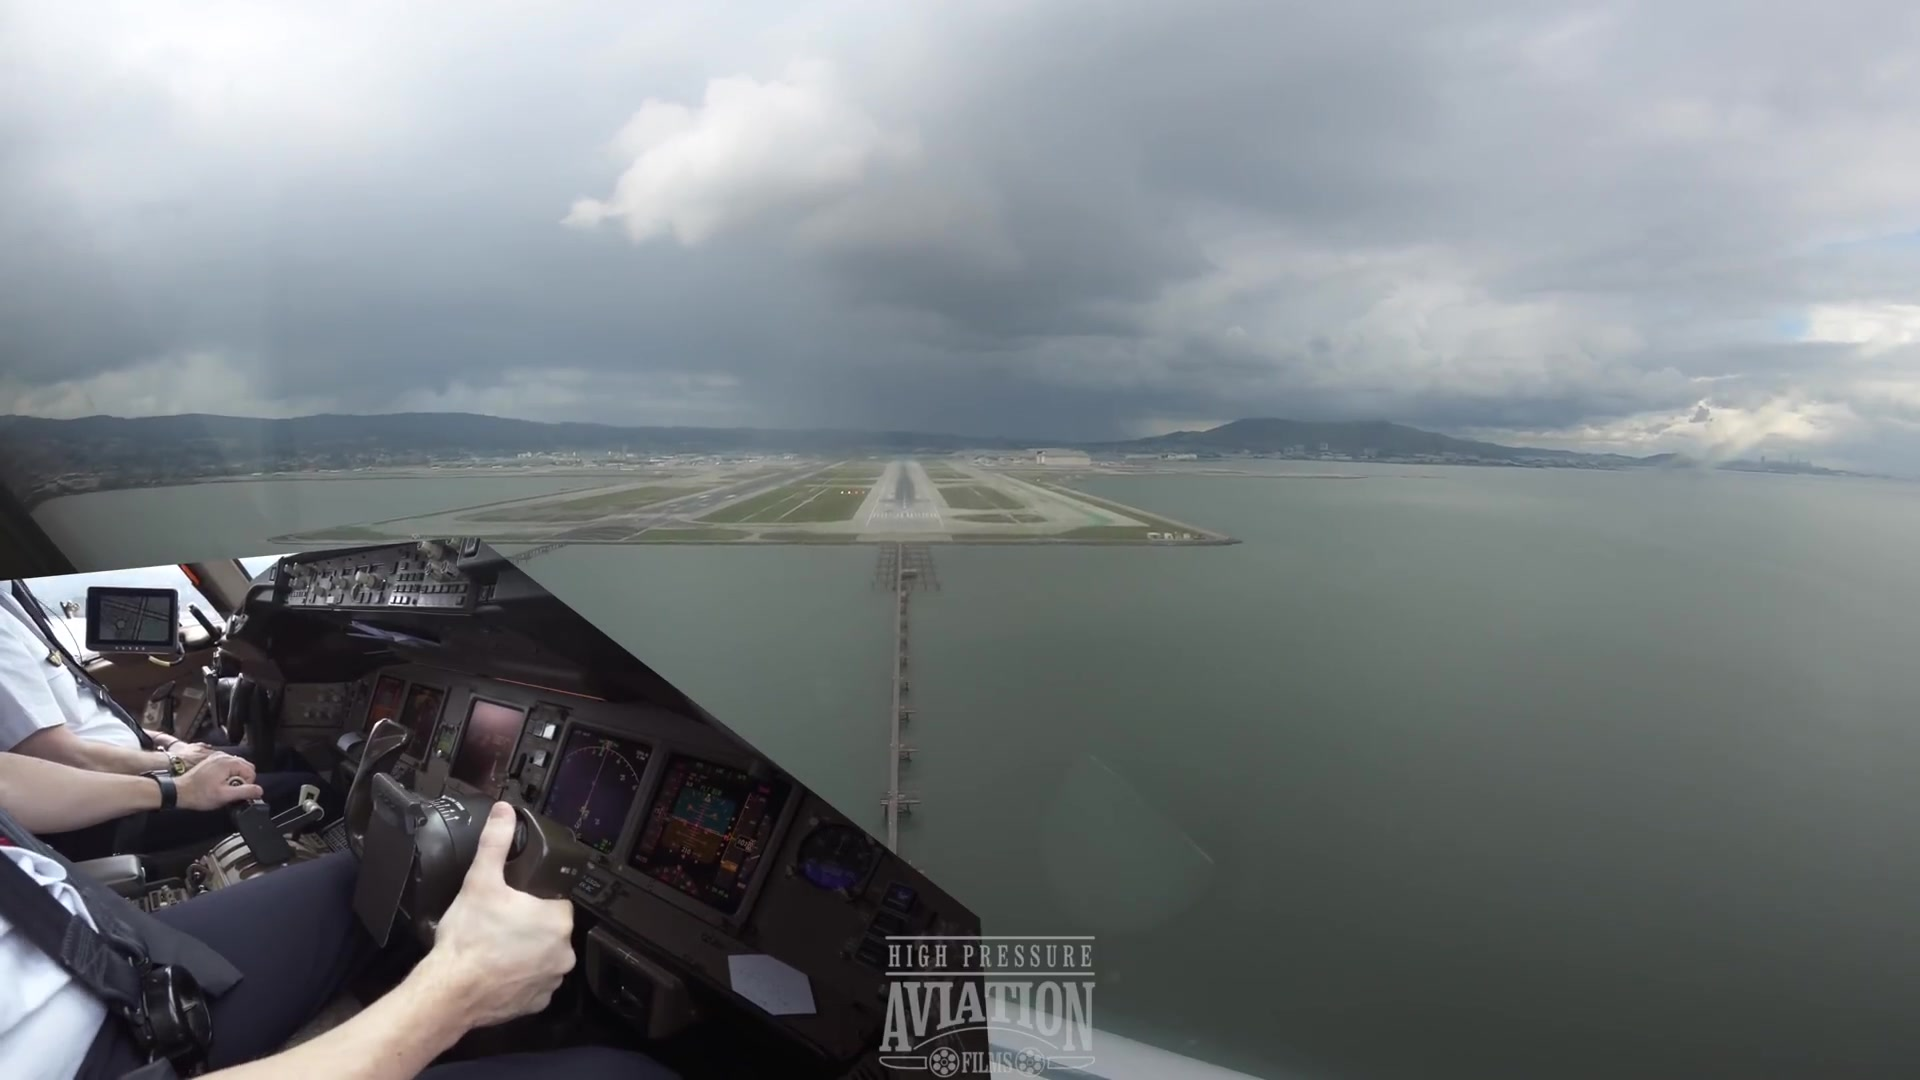entrance: (865, 506, 942, 520)
runway: (616, 471, 820, 521), (849, 459, 953, 534)
